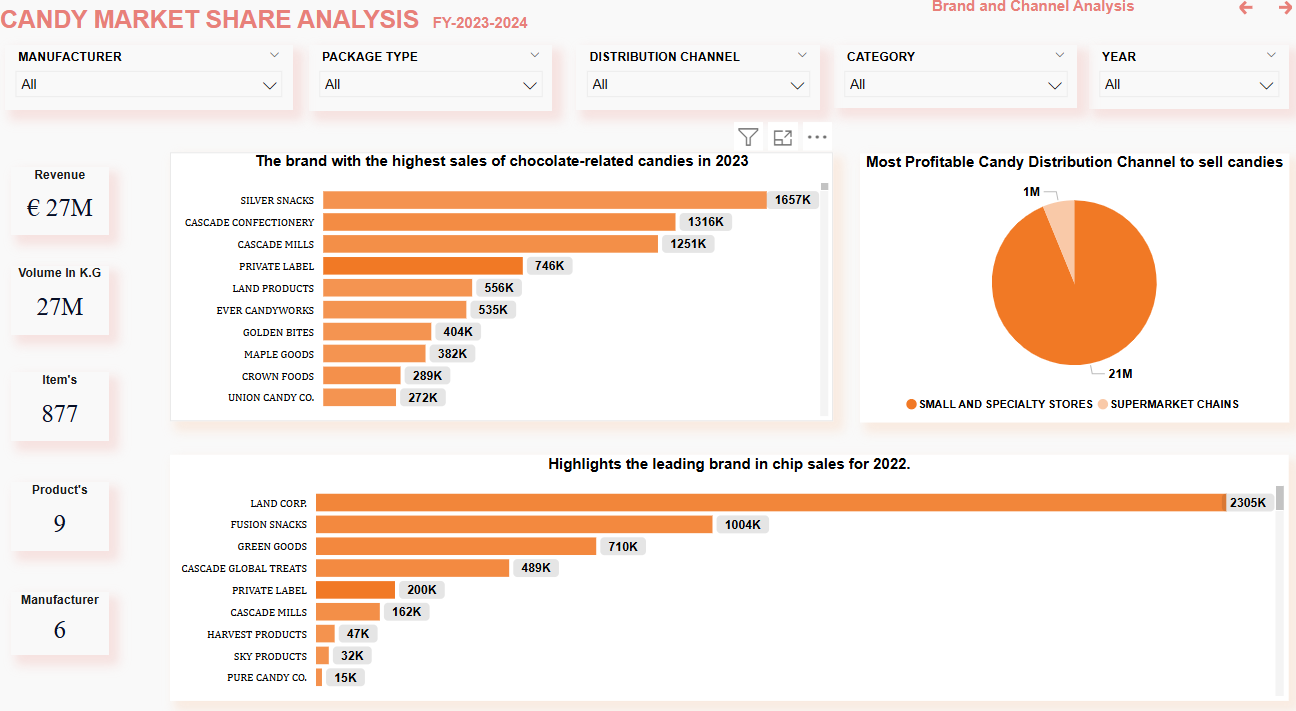

The page's visual inventory and layout, read from the dashboard file:
{"tool":"powerbi","page":{"name":"Brand & Channel Analysis P3","canvas":[1280,720],"ordinal":2},"visuals":[{"type":"slicer","fields":{"Values":["Data.YEAR"]},"box":[1070,52.5,196.2,62.5],"z":0},{"type":"slicer","fields":{"Values":["Data.CATEGORY"]},"box":[820,52.5,238.8,61.2],"z":1000},{"type":"slicer","fields":{"Values":["Data.DISTRIBUTION CHANNEL"]},"box":[568.8,52.5,238.8,63.8],"z":2000},{"type":"slicer","fields":{"Values":["Data.PACKAGE TYPE"]},"box":[307.5,52.5,238.8,65],"z":3000},{"type":"slicer","title":"MANUFACTURER","fields":{"Values":["Data.MANUFACTURER"]},"box":[10,52.5,281.2,63.8],"z":4000},{"type":"card","title":"Volume In K.G","fields":{"Values":["measure.Total_Volume_kg"]},"box":[16.2,268.8,95,67.5],"z":5000},{"type":"card","title":"Revenue","fields":{"Values":["measure.Total_Sales_Eur"]},"box":[16.2,172.5,95,66.2],"z":6000},{"type":"card","title":"Product''s","fields":{"Values":["measure.Total_Product"]},"box":[16.2,480,95,67.5],"z":7000},{"type":"card","title":"Manufacturer","fields":{"Values":["measure.Total_Manufacturer"]},"box":[16.2,588.8,95,61.2],"z":8000},{"type":"card","title":"Item''s","fields":{"Values":["measure.Total_Item"]},"box":[16.2,372.5,95,67.5],"z":9000},{"type":"textbox","box":[0,10,615,70],"z":10000},{"type":"barChart","title":"Highlights the leading brand in chip sales for 2022.","fields":{"Category":["Data.BRAND"],"Y":["measure.Most Popular Chips in 2022"]},"box":[171.4,454.2,1094.4,241.2],"z":11000},{"type":"barChart","title":"The brand with the highest sales of chocolate-related candies in 2023","fields":{"Category":["Data.BRAND"],"Y":["measure.CANDY_BRAND_SOLD_CHOCOLATE_IN_2023"]},"box":[171.4,157.9,648.8,263.2],"z":12000},{"type":"pieChart","title":"Most Profitable Candy Distribution Channel to sell candies","fields":{"Category":["Data.DISTRIBUTION CHANNEL"],"Y":["measure.Distribution Channel"]},"box":[845.9,159.1,419.9,263.2],"z":13000},{"type":"textbox","box":[887.5,0,255.9,31.8],"z":14000},{"type":"actionButton","box":[1206.9,0,37.9,33],"z":15000},{"type":"actionButton","box":[1244.8,0,35.5,33],"z":16000}]}

Visuals, with their boxes in screenshot pixels (x1, y1, x2, y2), scaled from the page's 1280x720 canvas onto the 1296x711 screenshot:
slicer - Data.YEAR: x1=1083 y1=52 x2=1282 y2=114
slicer - Data.CATEGORY: x1=830 y1=52 x2=1072 y2=112
slicer - Data.DISTRIBUTION CHANNEL: x1=576 y1=52 x2=818 y2=115
slicer - Data.PACKAGE TYPE: x1=311 y1=52 x2=553 y2=116
"MANUFACTURER" slicer: x1=10 y1=52 x2=295 y2=115
"Volume In K.G" card: x1=16 y1=265 x2=113 y2=332
"Revenue" card: x1=16 y1=170 x2=113 y2=236
"Product''s" card: x1=16 y1=474 x2=113 y2=541
"Manufacturer" card: x1=16 y1=581 x2=113 y2=642
"Item''s" card: x1=16 y1=368 x2=113 y2=434
textbox: x1=0 y1=10 x2=623 y2=79
"Highlights the leading brand in chip sales for 2022." barChart: x1=174 y1=449 x2=1282 y2=687
"The brand with the highest sales of chocolate-related candies in 2023" barChart: x1=174 y1=156 x2=830 y2=416
"Most Profitable Candy Distribution Channel to sell candies" pieChart: x1=856 y1=157 x2=1282 y2=417
textbox: x1=899 y1=0 x2=1158 y2=31
actionButton: x1=1222 y1=0 x2=1260 y2=33
actionButton: x1=1260 y1=0 x2=1295 y2=33
